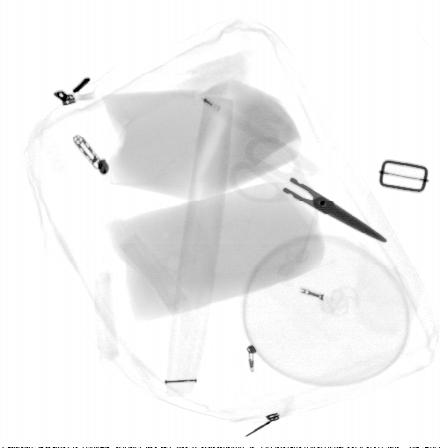Scissors: (226, 134, 387, 245)
